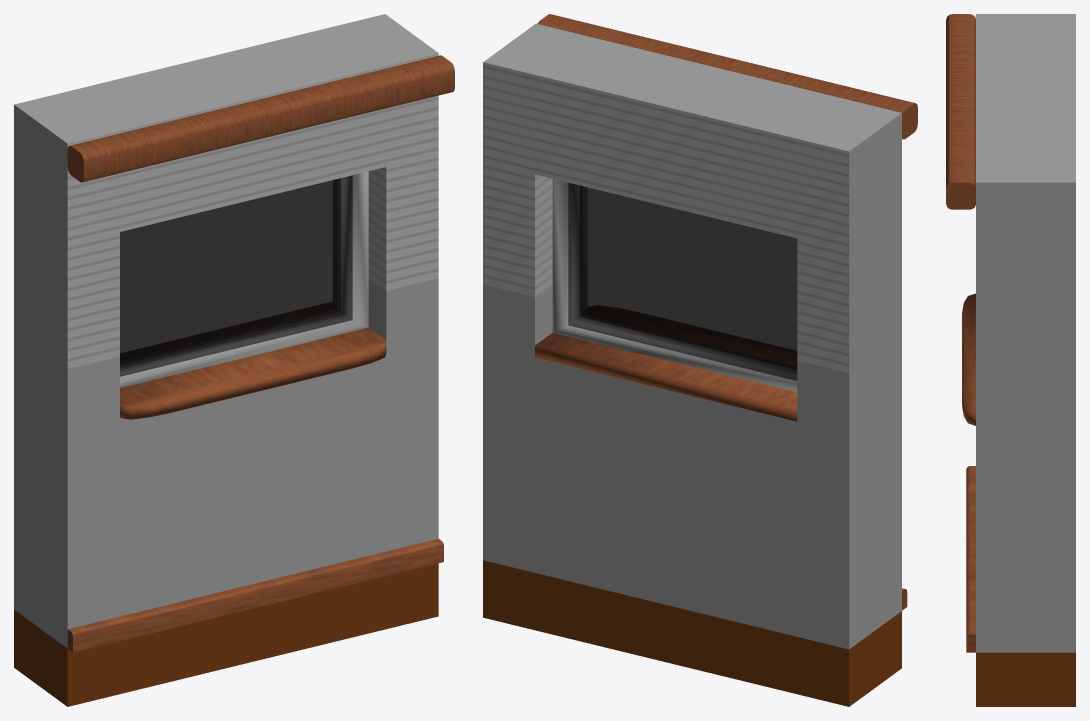
The model's file is WallWindow.fbx.
The picture shows the model from 3 angles, left to right: view 1: azimuth 30°, elevation 25°; view 2: azimuth 150°, elevation 25°; view 3: azimuth 270°, elevation 25°; orthographic projection. The views are drawn at different scales.
Parts seen in each view (by area): view 1: WandFenster, Fenster, Cube.003, Balken.002, Rand.002; view 2: WandFenster, Fenster, Cube.003, Balken.002; view 3: WandFenster, Balken.002, Cube.003, Rand.002, Fenster.
Boxes of the visible parts, x1,y1,x2,y2 form: WandFenster: [14, 14, 438, 648]; Fenster: [120, 171, 386, 419]; Cube.003: [14, 563, 438, 706]; Balken.002: [67, 55, 454, 182]; Rand.002: [67, 538, 443, 652]; WandFenster: [483, 23, 901, 649]; Fenster: [535, 179, 797, 421]; Cube.003: [483, 560, 901, 706]; Balken.002: [537, 14, 917, 139]; WandFenster: [976, 14, 1075, 652]; Balken.002: [946, 14, 975, 209]; Cube.003: [976, 652, 1075, 706]; Rand.002: [966, 466, 975, 652]; Fenster: [962, 293, 975, 425].
Bounding box in the file's own units: 2 × 2.9 × 0.65.
